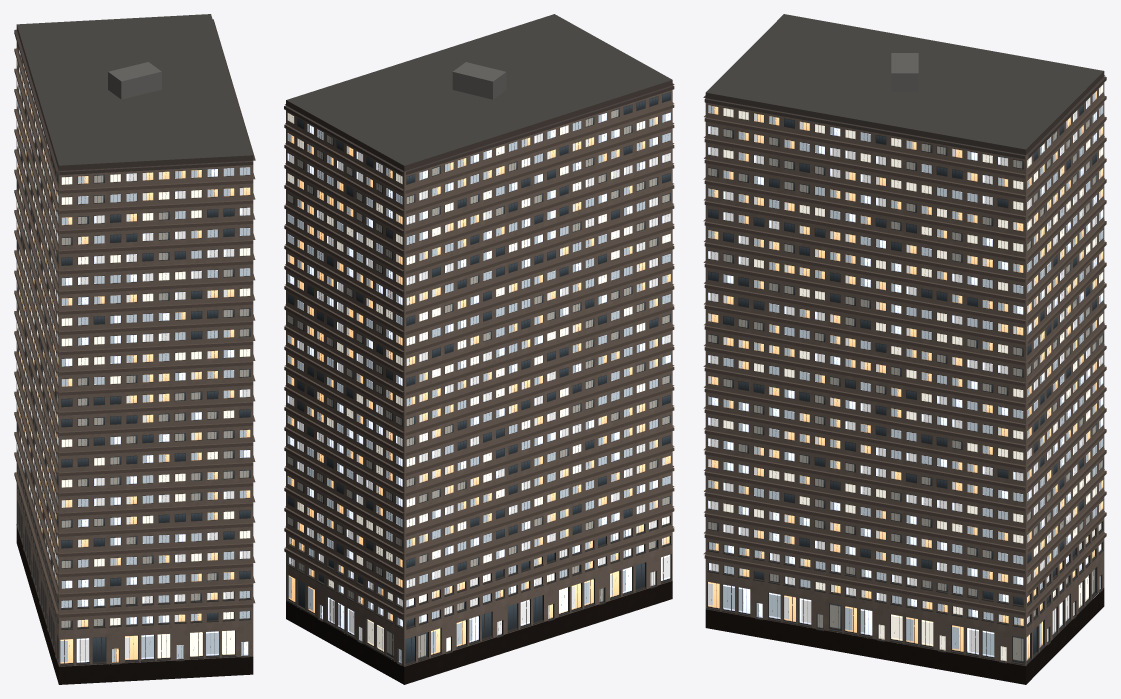
The model's file is pfingstweid.glb.
3 views of the same model, side by side, from view 1: azimuth 30°, elevation 25°; view 2: azimuth 150°, elevation 25°; view 3: azimuth 270°, elevation 25° (orthographic). The views are drawn at different scales.
Parts seen in each view (by area): view 1: pfingstweid; view 2: pfingstweid; view 3: pfingstweid.
Part boxes in pixels (x1,y1,x2,y2): pfingstweid: (14,14,255,684); pfingstweid: (284,14,674,684); pfingstweid: (703,14,1106,684).
Bounding box in the file's own units: 47.4 × 88.93 × 58.71.
Materials: 3 (3 with a texture image).
